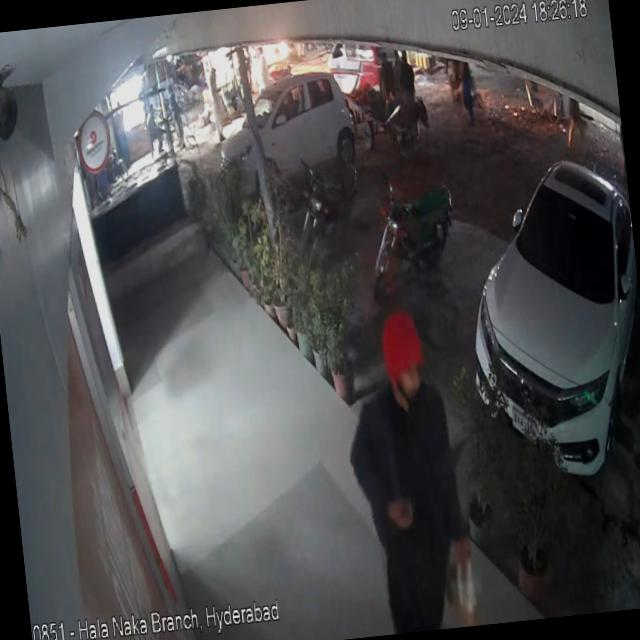Car: (446, 140, 640, 495), (194, 60, 368, 190)
Motorcycle: (355, 157, 468, 314), (283, 144, 371, 264)
